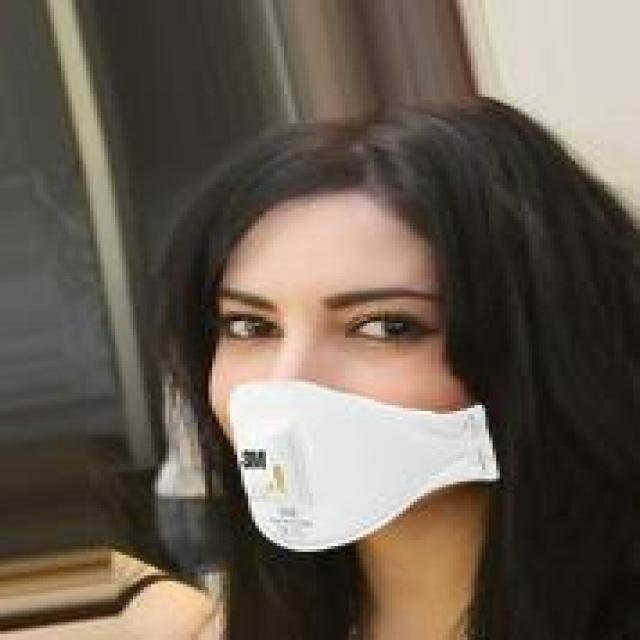mask: (172, 132, 600, 555)
